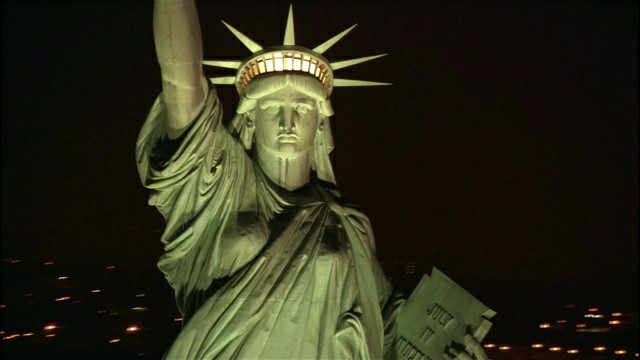SL: (134, 1, 497, 360)
